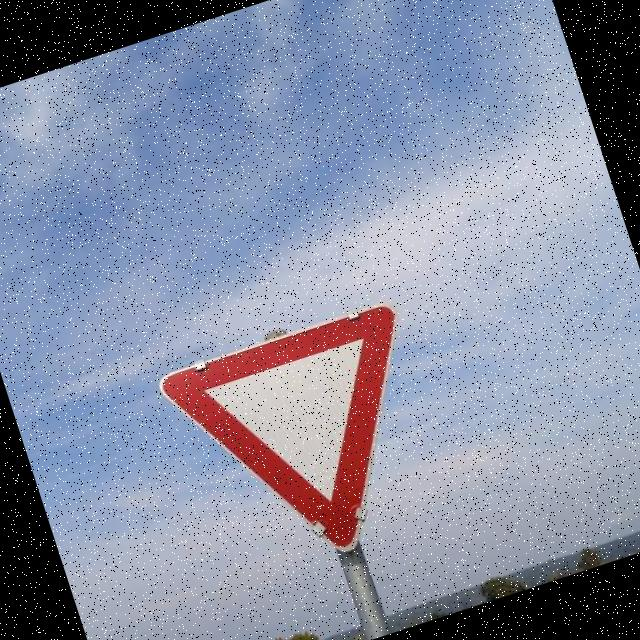give_way: (147, 278, 474, 607)
